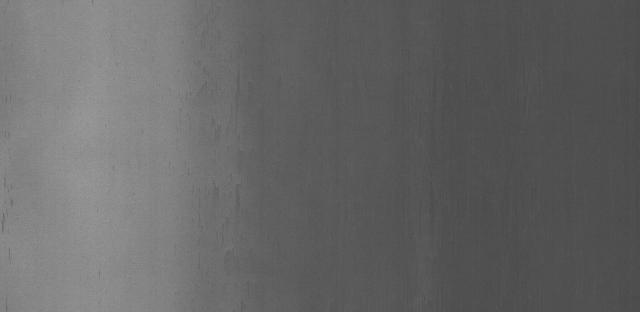silk_spot: (175, 49, 271, 285)
